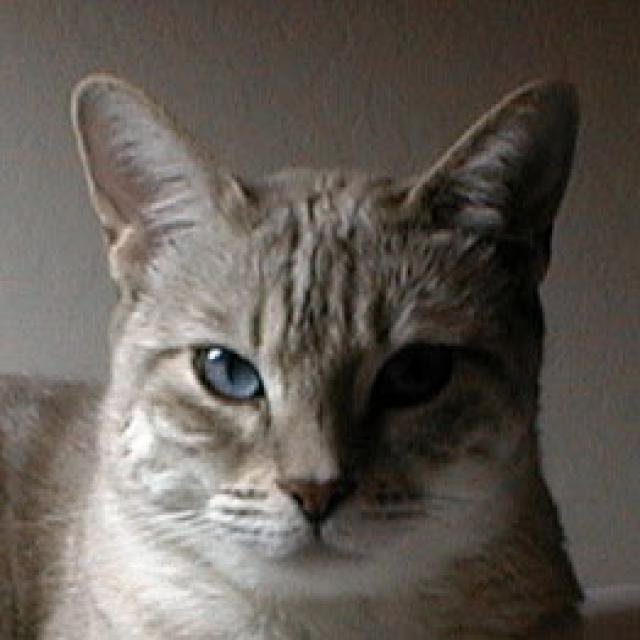Bengal: (66, 71, 576, 599)
